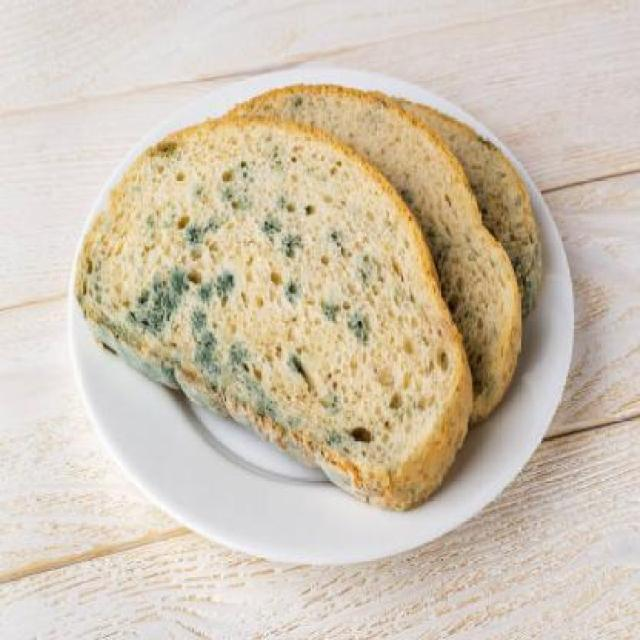mold_bread: (189, 314, 259, 382), (117, 269, 187, 330), (232, 395, 303, 439), (256, 210, 310, 258), (170, 206, 222, 250), (195, 263, 238, 310), (280, 346, 308, 382), (350, 310, 374, 348), (148, 135, 180, 163), (354, 256, 373, 295), (284, 274, 302, 312), (316, 294, 340, 322), (320, 428, 348, 451), (322, 224, 346, 250)
